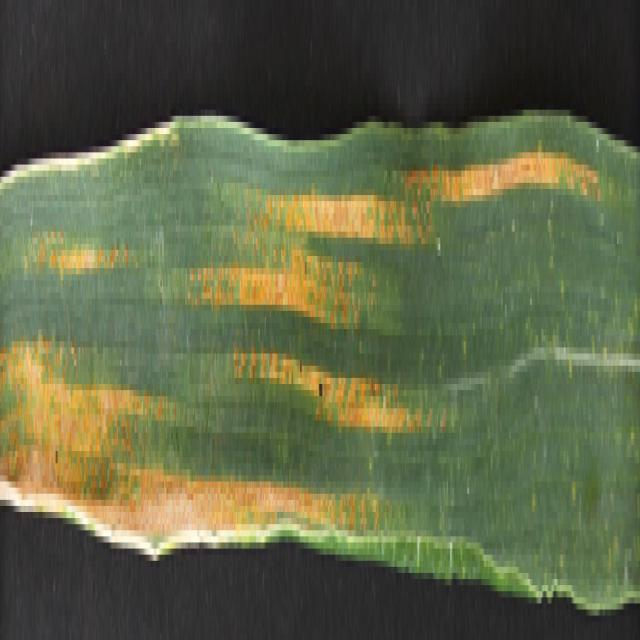leaf rust: (216, 116, 604, 433), (1, 238, 165, 512)
